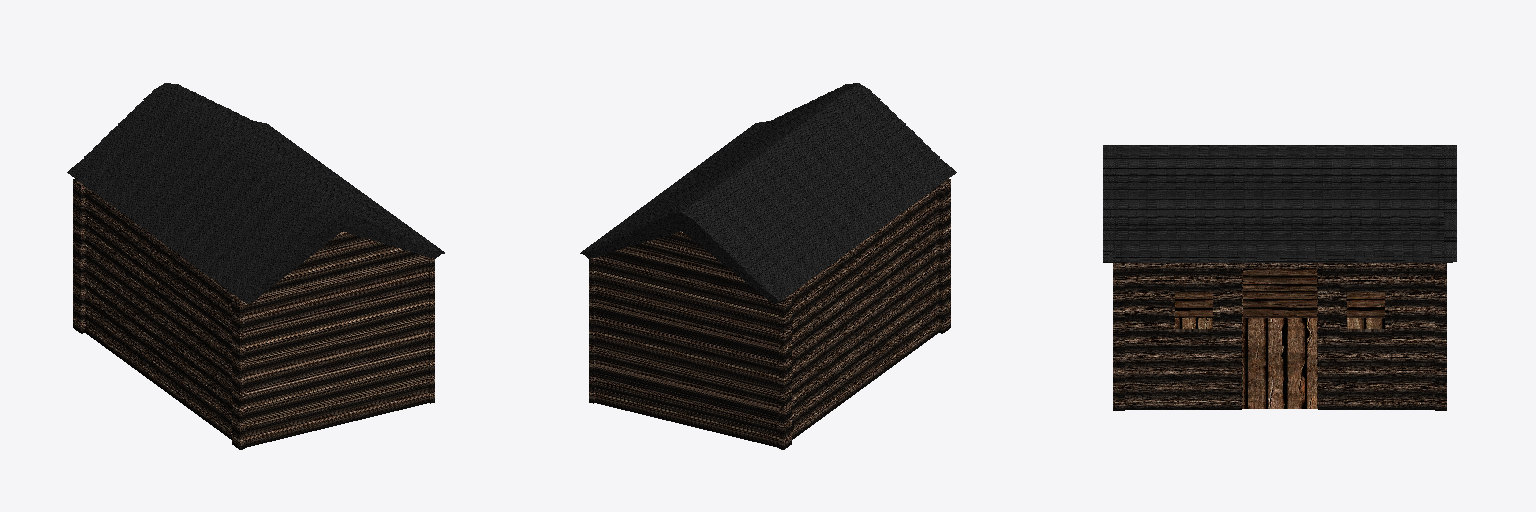
The picture shows the model from 3 angles: view 1: azimuth 30°, elevation 25°; view 2: azimuth 150°, elevation 25°; view 3: azimuth 270°, elevation 25°; orthographic projection.
Parts seen in each view (by area): view 1: ShedOutside, Roof; view 2: ShedOutside, Roof; view 3: Roof, ShedOutside, InsideShed.
Boxes of the visible parts, <box> form: ShedOutside: <box>73,179,434,449</box>; Roof: <box>67,83,444,303</box>; ShedOutside: <box>589,179,950,449</box>; Roof: <box>580,83,956,303</box>; Roof: <box>1103,145,1456,262</box>; ShedOutside: <box>1113,263,1446,410</box>; InsideShed: <box>1175,269,1384,408</box>.
Size of the model in its own units: 6.1 by 6.29 by 9.28.
Materials: 4 (3 with a texture image).